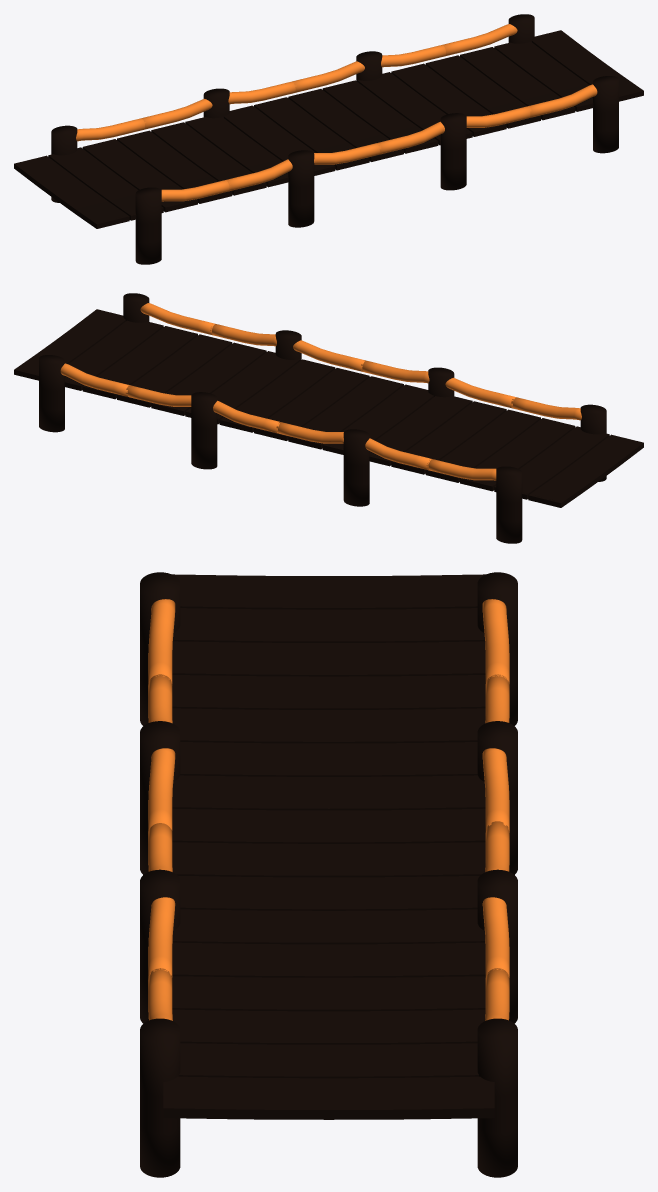
File: AS_Dock.obj
3 views of the same model, one above another, from view 1: azimuth 30°, elevation 25°; view 2: azimuth 150°, elevation 25°; view 3: azimuth 270°, elevation 25° (orthographic). The views are drawn at different scales.
Visible parts, largest first — view 1: Dock, Posts, Ropes; view 2: Dock, Posts, Ropes; view 3: Dock, Posts, Ropes.
Boxes of the visible parts, x1,y1,x2,y2 form: Dock: (14, 30, 643, 228); Posts: (51, 14, 618, 264); Ropes: (76, 24, 597, 201); Dock: (14, 309, 643, 507); Posts: (39, 293, 606, 543); Ropes: (60, 303, 581, 480); Dock: (163, 574, 494, 1119); Posts: (140, 572, 517, 1177); Ropes: (148, 599, 509, 1020).
Bounding box in the file's own units: 64.57 × 7.66 × 19.32.
